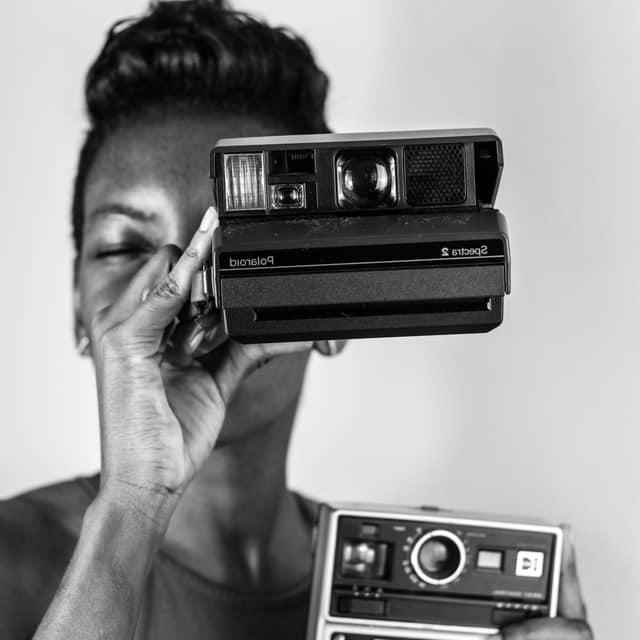adult: (0, 17, 350, 640)
